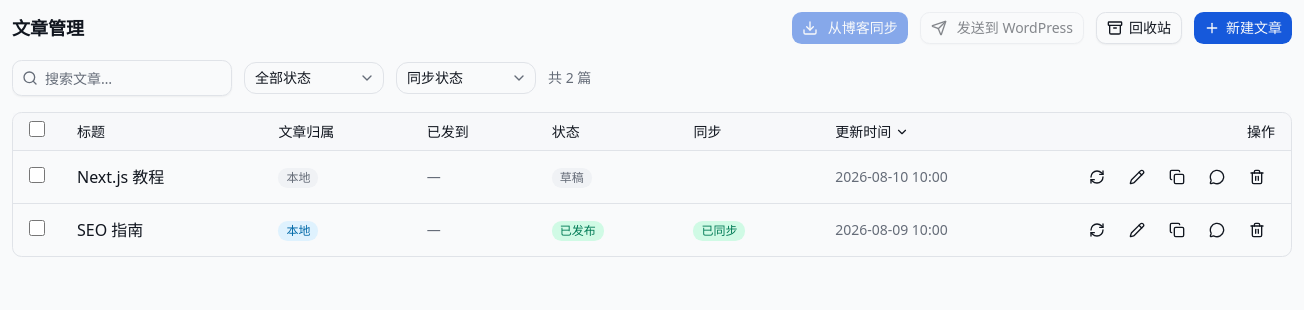
Test: ArticlesClient › DELETE 响应非 ok 显示错误提示
Check: the text "Next.js 教程" is shown, box [61,150,262,204]
What coordinates should you click on to do the following:
click the button named "移入回收站" in the row of "Next.js 教程"
I would click on:
 (1257, 177)
Its box is [1239,159,1275,195].
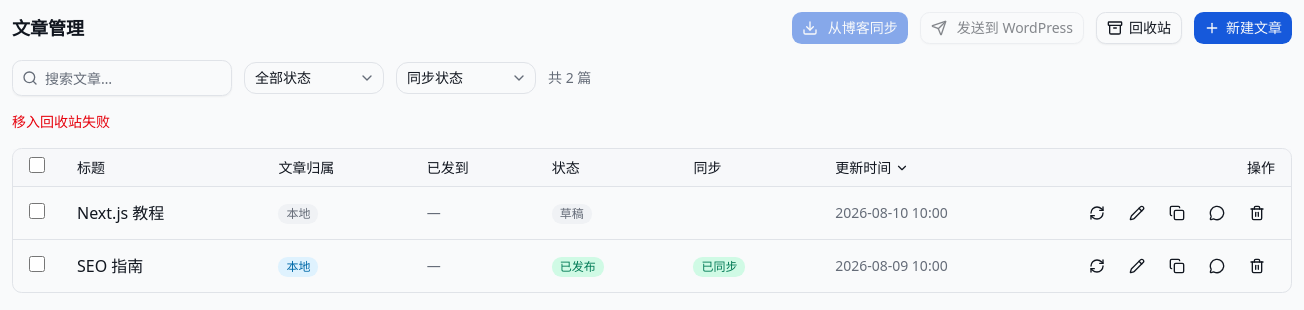
Check: the message reads "移入回收站失败", box [12,112,110,131]
